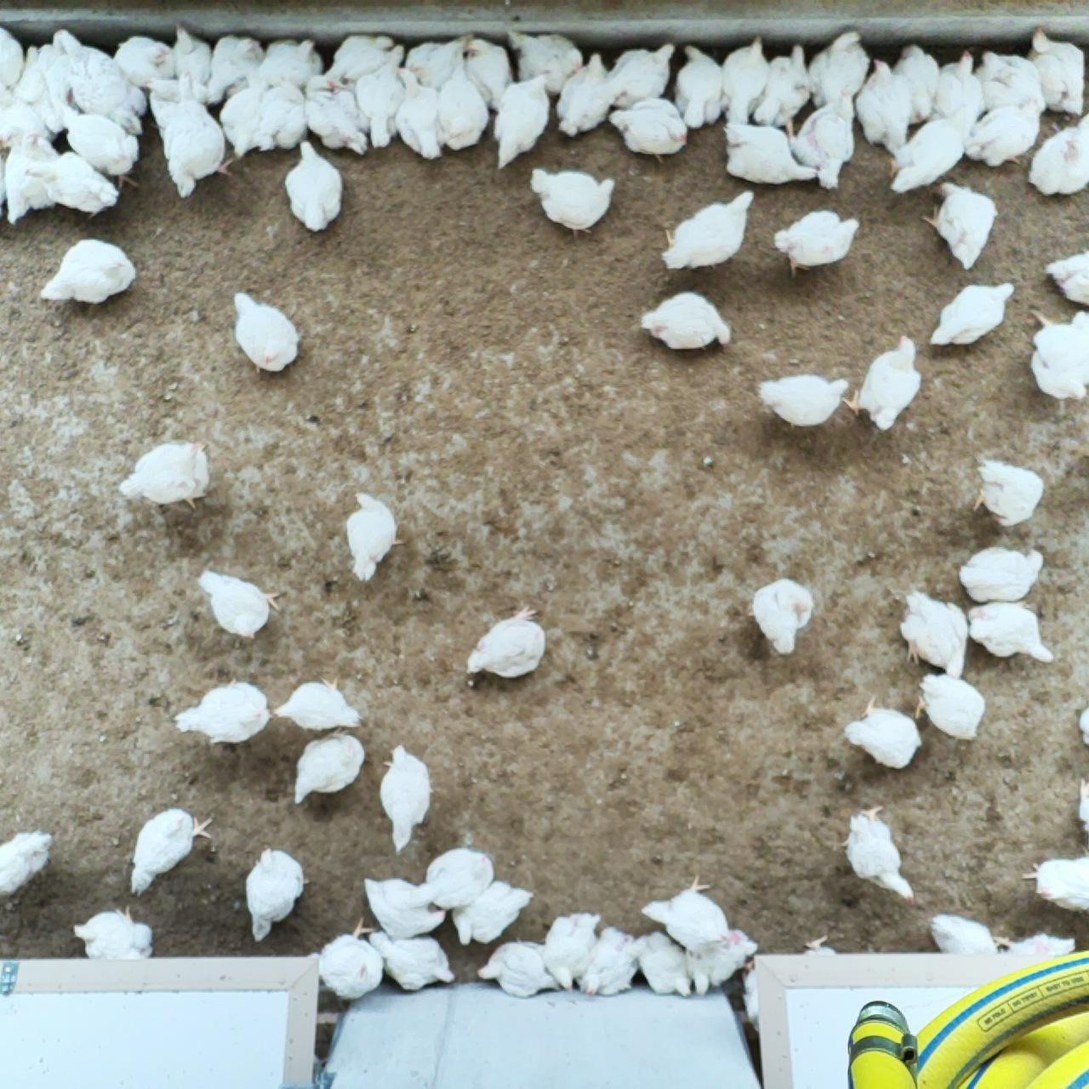chicken: (36, 26, 150, 140), (879, 111, 982, 200), (46, 94, 141, 189), (783, 84, 859, 197), (129, 802, 216, 899), (160, 95, 235, 202), (846, 332, 923, 436), (664, 187, 756, 273), (957, 587, 1052, 667), (119, 435, 215, 514), (174, 677, 269, 756), (804, 27, 876, 130), (841, 799, 912, 902), (191, 564, 283, 643), (34, 237, 136, 308), (924, 177, 1001, 271), (896, 585, 973, 678), (527, 165, 619, 241), (311, 915, 386, 1008), (242, 842, 309, 946), (720, 117, 818, 188), (31, 144, 121, 221), (336, 486, 405, 585), (231, 287, 307, 375), (912, 666, 992, 749), (748, 43, 813, 145), (603, 38, 688, 115), (769, 206, 861, 277), (489, 71, 552, 174), (932, 277, 1020, 350), (957, 94, 1046, 166), (363, 926, 460, 992), (377, 741, 433, 854), (638, 878, 727, 949), (461, 605, 547, 678), (281, 136, 345, 234), (637, 291, 733, 356), (959, 539, 1048, 609), (286, 731, 371, 804), (551, 51, 617, 143), (389, 64, 449, 165), (1026, 310, 1089, 406), (750, 576, 822, 660), (841, 693, 920, 769), (322, 29, 410, 97), (1020, 27, 1089, 113), (969, 450, 1047, 526), (753, 369, 853, 428), (359, 871, 451, 935), (539, 910, 608, 995), (271, 671, 365, 733), (499, 26, 587, 92), (451, 876, 532, 947), (406, 846, 498, 908), (3, 129, 63, 224), (200, 27, 271, 107), (1025, 113, 1089, 201), (716, 29, 767, 139), (400, 25, 483, 92), (352, 56, 408, 155), (671, 42, 727, 140), (475, 934, 558, 1000), (925, 51, 988, 136), (629, 925, 698, 1001), (610, 99, 687, 167), (857, 57, 910, 155), (67, 904, 155, 963), (459, 30, 517, 119), (300, 75, 364, 155), (432, 61, 482, 163), (571, 925, 638, 1001), (7, 43, 64, 132), (686, 925, 757, 996), (249, 36, 326, 99), (0, 822, 59, 900), (250, 77, 308, 156), (976, 47, 1044, 113), (893, 39, 944, 127), (1025, 848, 1089, 915), (147, 72, 213, 135), (0, 78, 55, 153), (217, 75, 264, 161), (112, 33, 174, 93), (927, 911, 995, 960), (167, 23, 218, 88), (1042, 246, 1089, 307), (738, 952, 768, 1032), (998, 930, 1079, 959), (0, 19, 29, 97)
